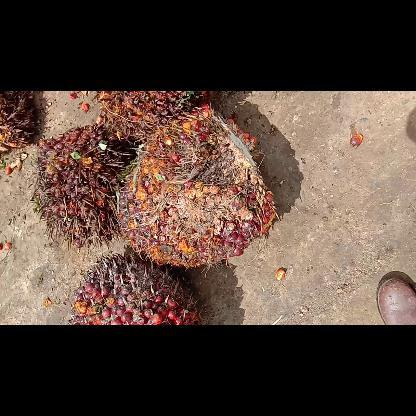TBS masak: (120, 104, 276, 268), (34, 126, 130, 242), (71, 254, 197, 324), (98, 90, 192, 136)
